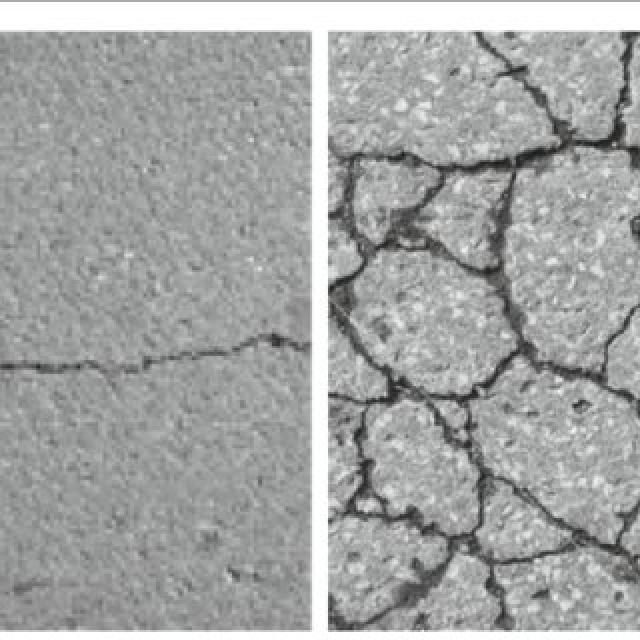Drain Hole: (352, 66, 640, 640)
